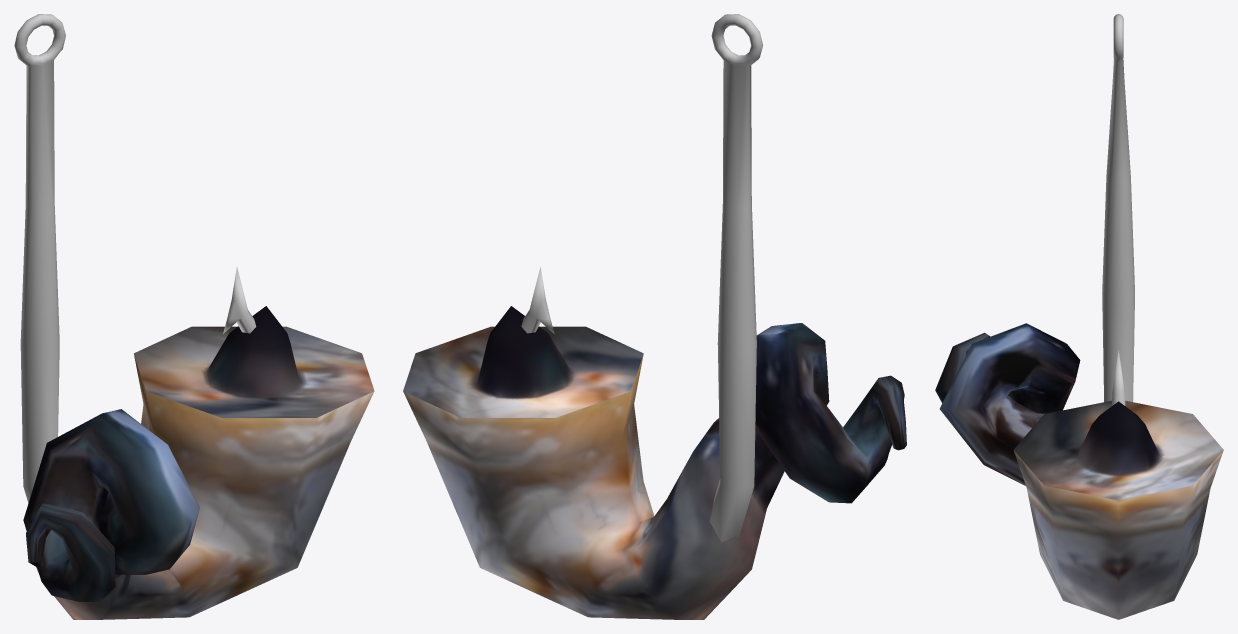
The model's file is Bait_SpinyTopShell.fbx.
3 views of the same model, side by side, from view 1: azimuth 30°, elevation 25°; view 2: azimuth 150°, elevation 25°; view 3: azimuth 270°, elevation 25° (orthographic). The views are drawn at different scales.
Parts seen in each view (by area): view 1: Bait_SpinyTopShell; view 2: Bait_SpinyTopShell; view 3: Bait_SpinyTopShell.
Part boxes in pixels (x1,y1,x2,y2): Bait_SpinyTopShell: [14, 14, 374, 619]; Bait_SpinyTopShell: [403, 14, 906, 619]; Bait_SpinyTopShell: [935, 14, 1223, 619].
Bounding box in the file's own units: 0.3243 × 0.4771 × 0.2338.
